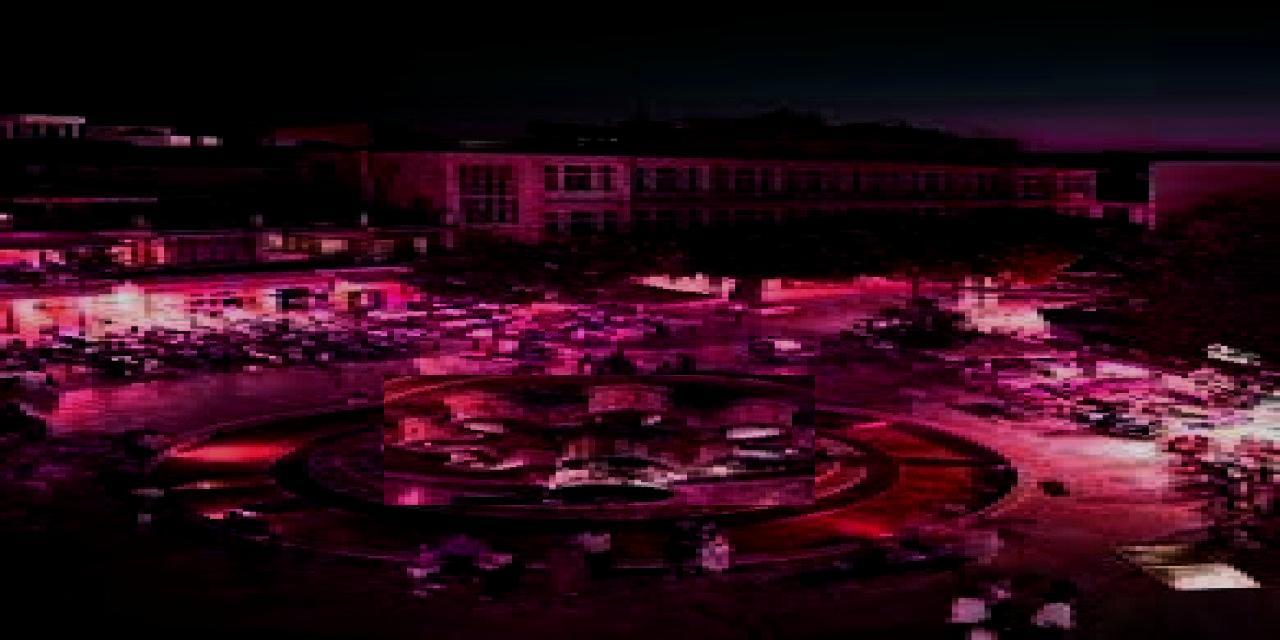Liontaria: (385, 376, 816, 506)
